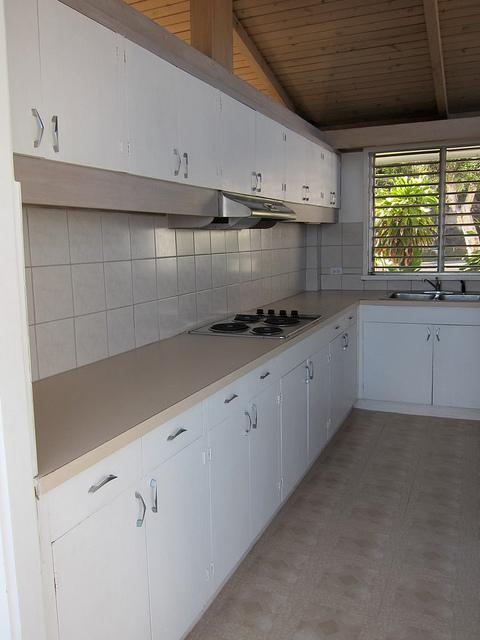Lavaplatos: (383, 271, 479, 306)
